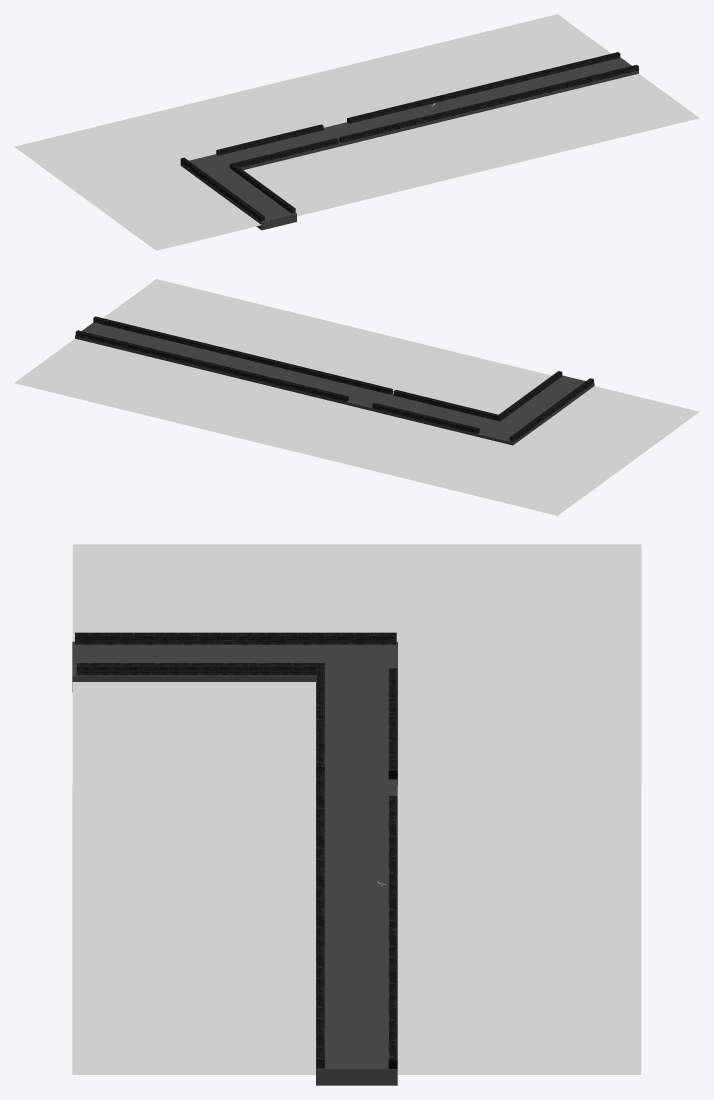
The model's file is LEFT.fbx.
3 renders of one model, top to bottom at view 1: azimuth 30°, elevation 25°; view 2: azimuth 150°, elevation 25°; view 3: azimuth 270°, elevation 25°, orthographic. The views are drawn at different scales.
Visible parts, largest first — view 1: Plane.050, straight path.003, Cube.059, Cube.028, Cube.029, Cube.027, Cube.049, Cube.056, Cube.060, Cube.007; view 2: Plane.050, straight path.003, Cube.027, Cube.028, Cube.059, Cube.029, Cube.056, Cube.049, Cube.060, Cube.007; view 3: Plane.050, straight path.003, Cube.059, Cube.027, Cube.060, Cube.007, Cube.029, Cube.028, Cube.049, Cube.056.
Part boxes in pixels (box(x1,y1,x2,y2)): Plane.050: box(14, 14, 699, 250); straight path.003: box(323, 57, 638, 145); Cube.059: box(180, 130, 333, 230); Cube.028: box(339, 64, 638, 142); Cube.029: box(347, 52, 620, 123); Cube.027: box(184, 137, 341, 175); Cube.049: box(216, 124, 323, 155); Cube.056: box(231, 138, 338, 167); Cube.060: box(180, 157, 264, 221); Cube.007: box(229, 164, 295, 213); Plane.050: box(14, 279, 699, 515); straight path.003: box(75, 322, 392, 410); Cube.027: box(379, 393, 533, 445); Cube.028: box(93, 316, 392, 394); Cube.059: box(372, 375, 594, 430); Cube.029: box(75, 330, 348, 401); Cube.056: box(393, 390, 501, 421); Cube.049: box(372, 402, 479, 433); Cube.060: box(509, 378, 593, 442); Cube.007: box(499, 371, 562, 421); Plane.050: box(72, 544, 641, 1074); straight path.003: box(316, 779, 397, 1085); Cube.059: box(72, 641, 397, 778); Cube.027: box(316, 642, 397, 784); Cube.060: box(75, 632, 396, 644); Cube.007: box(76, 663, 324, 675); Cube.029: box(388, 796, 397, 1068); Cube.028: box(316, 769, 324, 1068); Cube.049: box(388, 668, 397, 779); Cube.056: box(316, 663, 324, 769).
Bounding box in the file's own units: 15359 × 343 × 6964.
